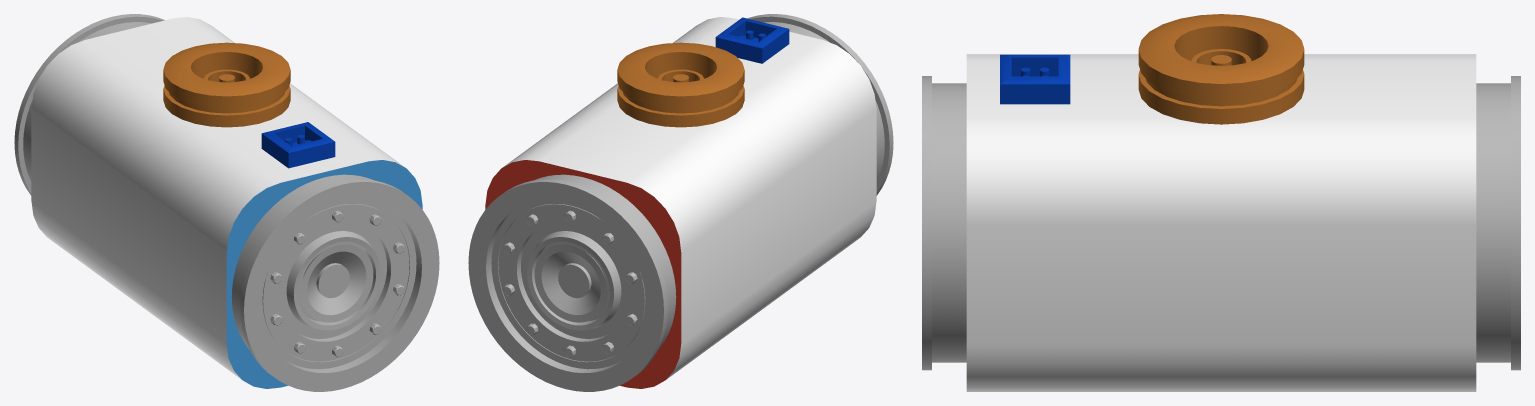
The model's file is TurboPump.gltf.
The picture shows the model from 3 angles, left to right: view 1: azimuth 30°, elevation 25°; view 2: azimuth 150°, elevation 25°; view 3: azimuth 270°, elevation 25°; orthographic projection. The views are drawn at different scales.
Parts seen in each view (by area): view 1: turbopump; view 2: turbopump; view 3: turbopump.
Part boxes in pixels (x1,y1,x2,y2): turbopump: (14, 14, 439, 391); turbopump: (468, 14, 893, 391); turbopump: (922, 14, 1520, 391).
Size of the model in its own units: 0.25 by 0.2917 by 0.5078.
